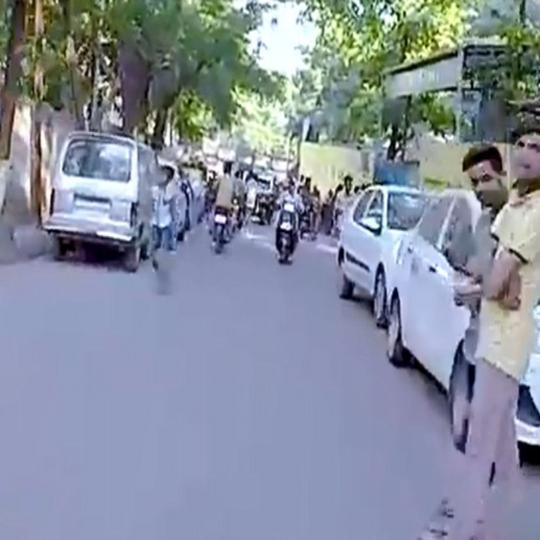Speed Bump: (242, 224, 276, 244), (300, 239, 337, 257)
